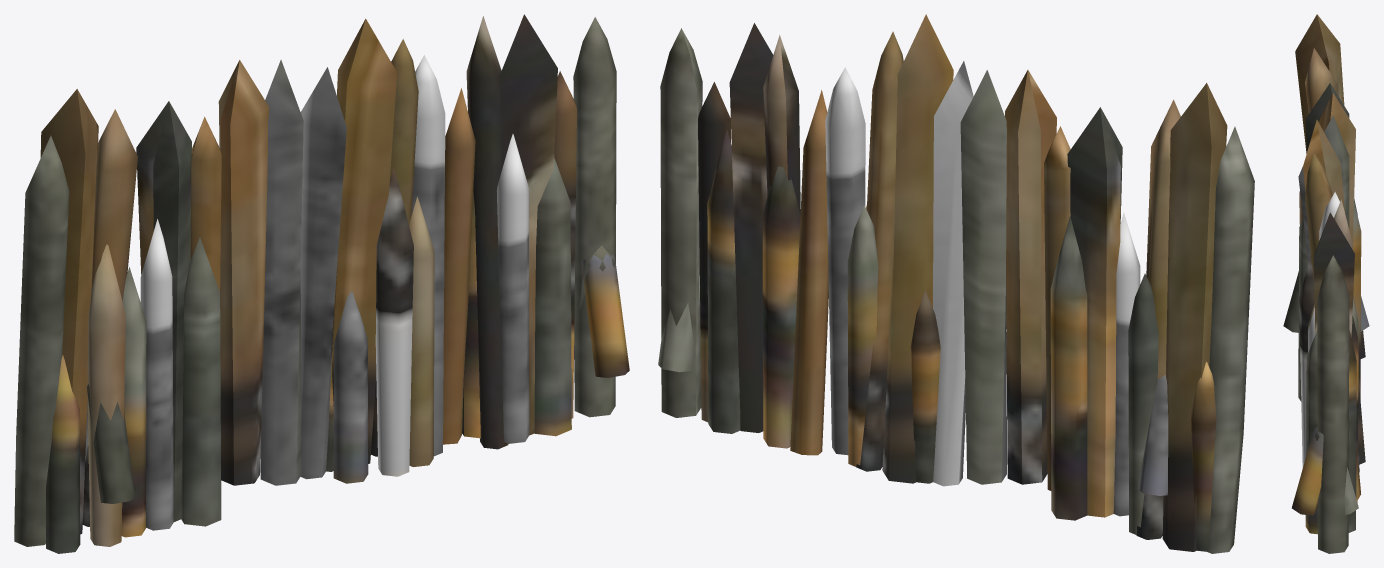
The model's file is 69-base-wall_wooden_short.glb.
The picture shows the model from 3 angles, left to right: view 1: azimuth 30°, elevation 25°; view 2: azimuth 150°, elevation 25°; view 3: azimuth 270°, elevation 25°; orthographic projection. The views are drawn at different scales.
Size of the model in its own units: 4.88 by 3.62 by 0.8218.
Materials: 1 (1 with a texture image).
